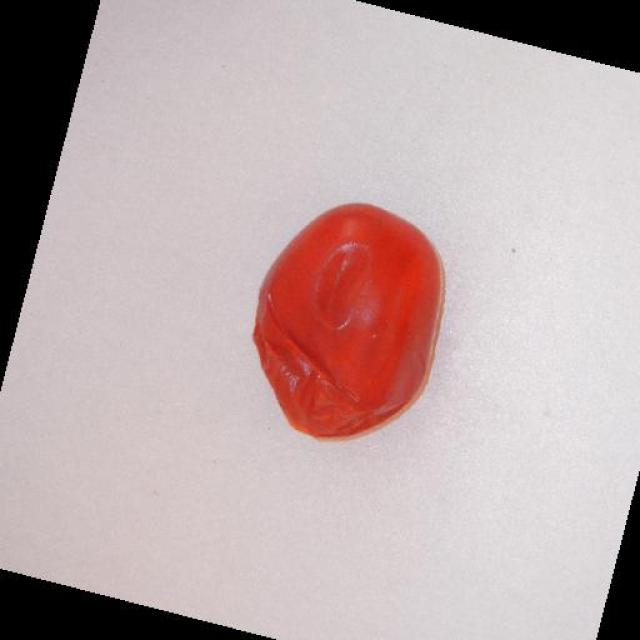Stale_tomato: (256, 212, 455, 436)
